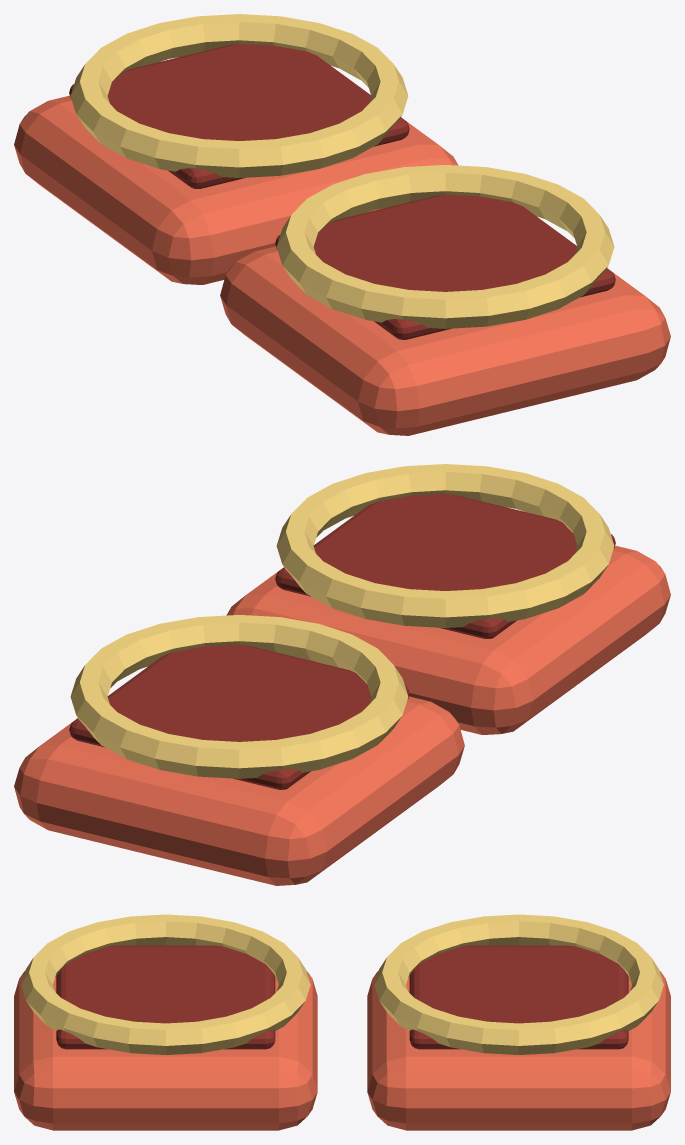
The model's file is PR3D_Container_1x2.fbx.
The picture shows the model from 3 angles, top to bottom: view 1: azimuth 30°, elevation 25°; view 2: azimuth 150°, elevation 25°; view 3: azimuth 270°, elevation 25°; orthographic projection. The views are drawn at different scales.
Parts seen in each view (by area): view 1: Visual_1x2_Base_00, Visual_1x2_Base_01, Visual_1x2_Rim_00, Visual_1x2_Rim_01, Visual_1x2_Inset_00, Visual_1x2_Inset_01; view 2: Visual_1x2_Base_01, Visual_1x2_Base_00, Visual_1x2_Rim_00, Visual_1x2_Rim_01, Visual_1x2_Inset_01, Visual_1x2_Inset_00; view 3: Visual_1x2_Base_00, Visual_1x2_Base_01, Visual_1x2_Rim_00, Visual_1x2_Rim_01, Visual_1x2_Inset_00, Visual_1x2_Inset_01.
Part boxes in pixels (x1=…): Visual_1x2_Base_00: x1=220, y1=246, x2=670, y2=435; Visual_1x2_Base_01: x1=14, y1=95, x2=458, y2=284; Visual_1x2_Rim_00: x1=276, y1=165, x2=614, y2=328; Visual_1x2_Rim_01: x1=70, y1=14, x2=408, y2=177; Visual_1x2_Inset_00: x1=275, y1=194, x2=615, y2=339; Visual_1x2_Inset_01: x1=69, y1=43, x2=409, y2=188; Visual_1x2_Base_01: x1=14, y1=696, x2=464, y2=885; Visual_1x2_Base_00: x1=226, y1=545, x2=670, y2=734; Visual_1x2_Rim_00: x1=276, y1=464, x2=614, y2=627; Visual_1x2_Rim_01: x1=70, y1=615, x2=408, y2=778; Visual_1x2_Inset_01: x1=69, y1=644, x2=409, y2=789; Visual_1x2_Inset_00: x1=275, y1=493, x2=615, y2=638; Visual_1x2_Base_00: x1=14, y1=970, x2=317, y2=1130; Visual_1x2_Base_01: x1=367, y1=970, x2=670, y2=1130; Visual_1x2_Rim_00: x1=21, y1=914, x2=310, y2=1054; Visual_1x2_Rim_01: x1=374, y1=914, x2=663, y2=1054; Visual_1x2_Inset_00: x1=56, y1=945, x2=275, y2=1049; Visual_1x2_Inset_01: x1=409, y1=945, x2=628, y2=1049.
Size of the model in its own units: 0.86 by 0.334 by 1.86.
